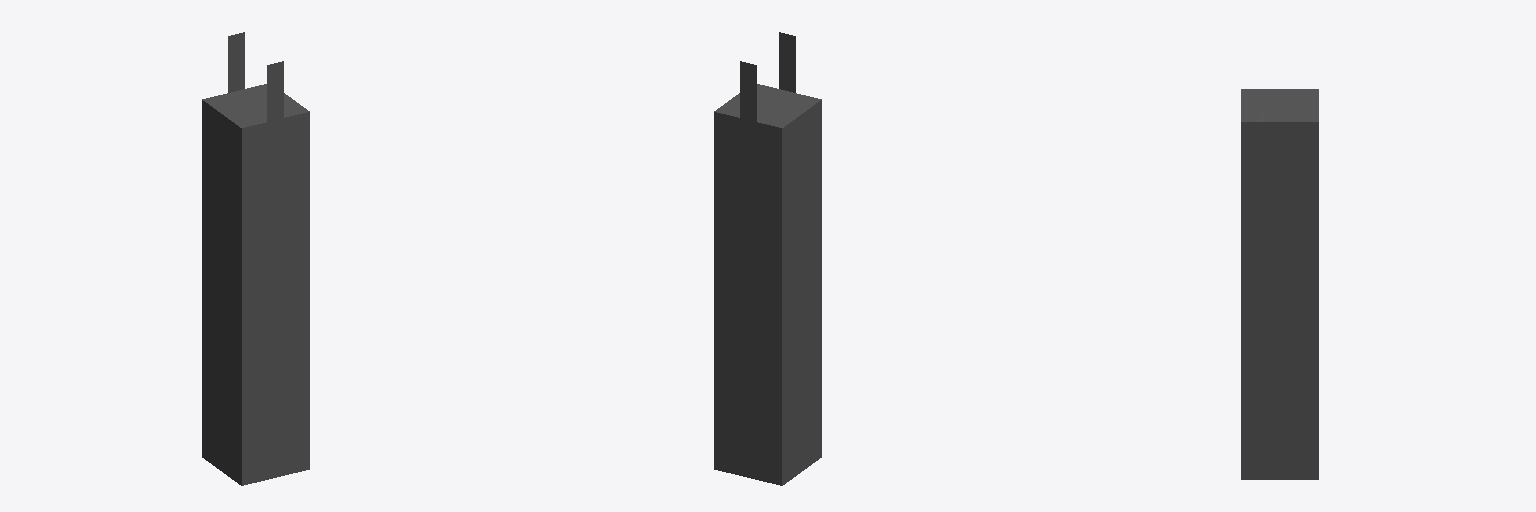
3 views of the same model, side by side, from view 1: azimuth 30°, elevation 25°; view 2: azimuth 150°, elevation 25°; view 3: azimuth 270°, elevation 25° (orthographic).
Visible parts, largest first — view 1: 立方体; view 2: 立方体; view 3: 立方体.
Part boxes in pixels (x1,y1,x2,y2): 立方体: (202,32,309,485); 立方体: (714,32,821,485); 立方体: (1241,89,1318,479).
Bounding box in the file's own units: 2 × 11.59 × 2.
1 materials, 1 textured.